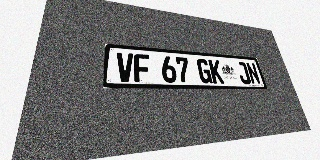6: (160, 56, 177, 83)
7: (175, 57, 191, 83)
F: (134, 53, 151, 82)
G: (196, 58, 213, 83)
J: (236, 62, 252, 84)
K: (208, 59, 225, 84)
N: (245, 62, 261, 84)
V: (116, 52, 134, 82)
